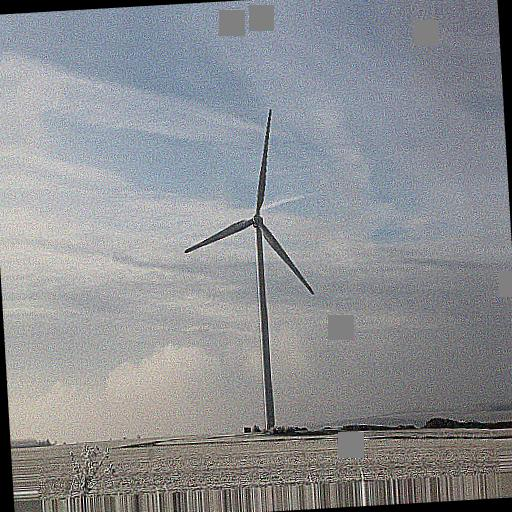wind turbine: (183, 109, 316, 434)
